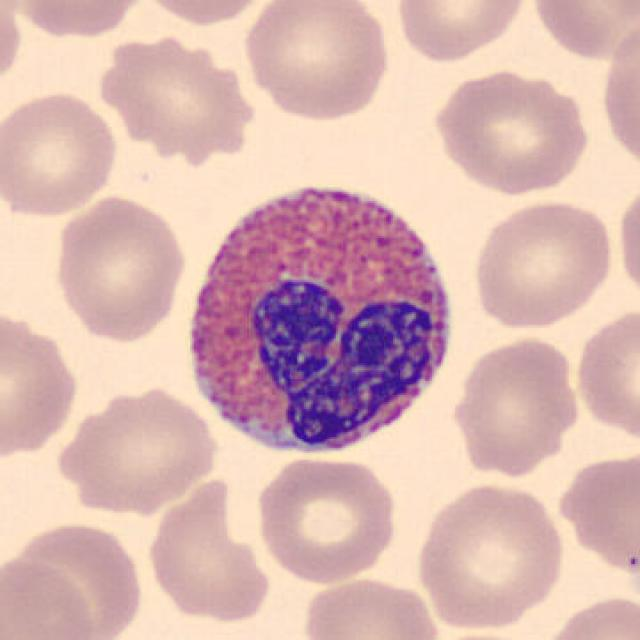Eosinophil: (170, 162, 466, 471)
RBC: (411, 478, 569, 631), (427, 66, 596, 198), (94, 30, 258, 166), (54, 381, 220, 515), (50, 190, 190, 344), (142, 472, 276, 626), (250, 452, 402, 586), (468, 196, 615, 332), (448, 331, 583, 478), (238, 0, 393, 125), (0, 86, 123, 220), (13, 514, 145, 634), (0, 303, 82, 462), (553, 448, 640, 582), (570, 301, 640, 446), (298, 573, 442, 640), (391, 0, 533, 65), (0, 550, 100, 640), (595, 8, 640, 178), (526, 0, 638, 63), (7, 0, 149, 41), (536, 590, 638, 640), (135, 0, 277, 28), (613, 178, 640, 310), (0, 0, 25, 97), (422, 629, 540, 640)
